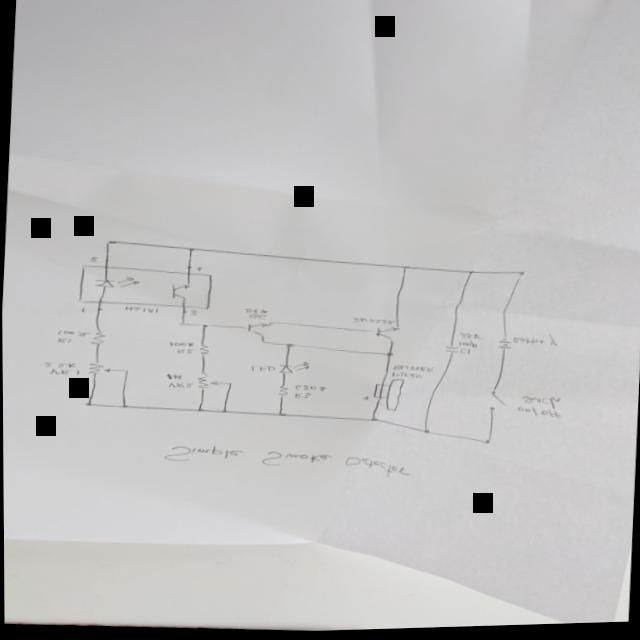capacitor: (443, 348, 461, 357)
diode: (276, 362, 311, 378)
junction: (104, 241, 117, 248), (197, 325, 211, 331), (516, 274, 526, 282), (482, 442, 492, 449), (275, 414, 285, 420), (421, 431, 431, 437), (368, 419, 378, 425), (284, 345, 296, 350), (383, 354, 393, 360), (186, 248, 195, 254), (119, 405, 129, 410), (177, 323, 187, 328), (83, 403, 91, 408), (467, 273, 475, 278), (195, 410, 204, 414), (401, 269, 410, 273), (219, 411, 227, 415), (226, 383, 232, 387), (123, 370, 129, 374), (260, 343, 266, 346), (267, 324, 274, 326)
resistor: (195, 373, 220, 393), (85, 361, 112, 378), (87, 329, 106, 348), (275, 386, 290, 400), (197, 345, 210, 358)
source: (495, 339, 513, 354)
switch: (487, 393, 507, 416)
text: (160, 440, 411, 487), (513, 409, 562, 424), (511, 336, 558, 351), (519, 398, 562, 414), (351, 318, 395, 329), (391, 367, 435, 376), (123, 306, 159, 316), (55, 329, 91, 339), (42, 362, 76, 371), (293, 386, 327, 395), (390, 374, 422, 382), (48, 369, 79, 377), (457, 342, 478, 352), (243, 309, 269, 317), (167, 383, 193, 391), (168, 342, 194, 350), (249, 367, 275, 375), (458, 336, 483, 344), (164, 374, 182, 383), (292, 394, 310, 402), (55, 337, 72, 345), (247, 315, 266, 322), (176, 349, 194, 356), (87, 256, 99, 265), (459, 351, 471, 358), (78, 307, 86, 315), (194, 267, 203, 274), (188, 311, 197, 317)
transistor: (369, 327, 402, 346), (242, 324, 271, 340)
